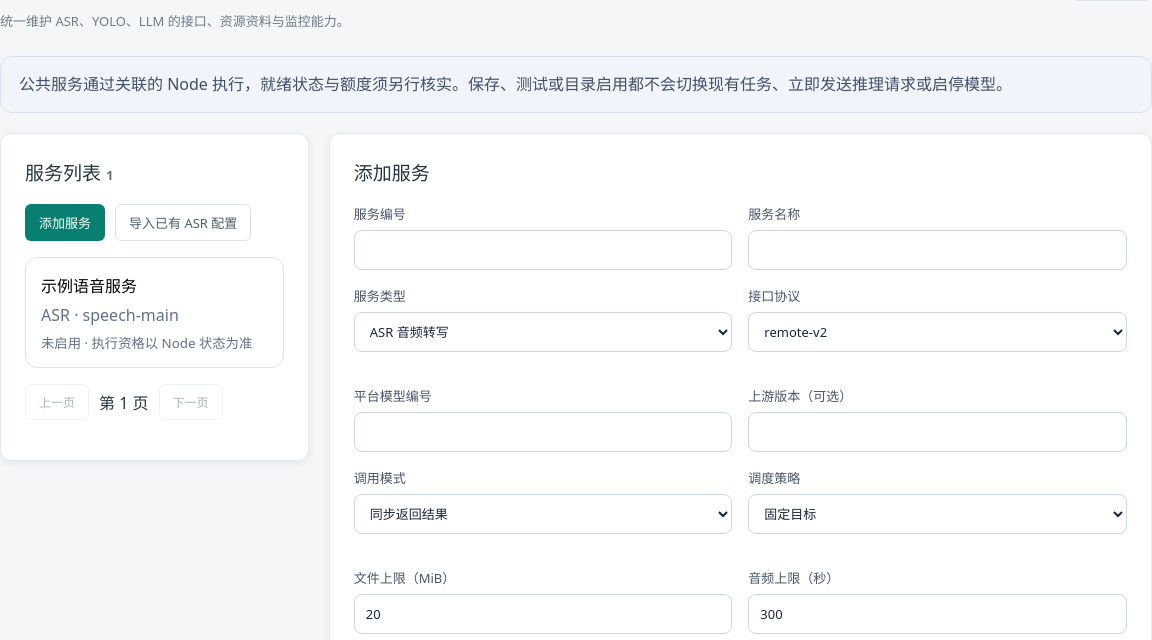
public service catalog module › keeps user edits when the server rejects a stale version
Step 1. Click the button "示例语音服务 ASR · speech-main 未启用 · 执行资格以 Node 状态为准" → [154, 313], box [25, 257, 284, 368]
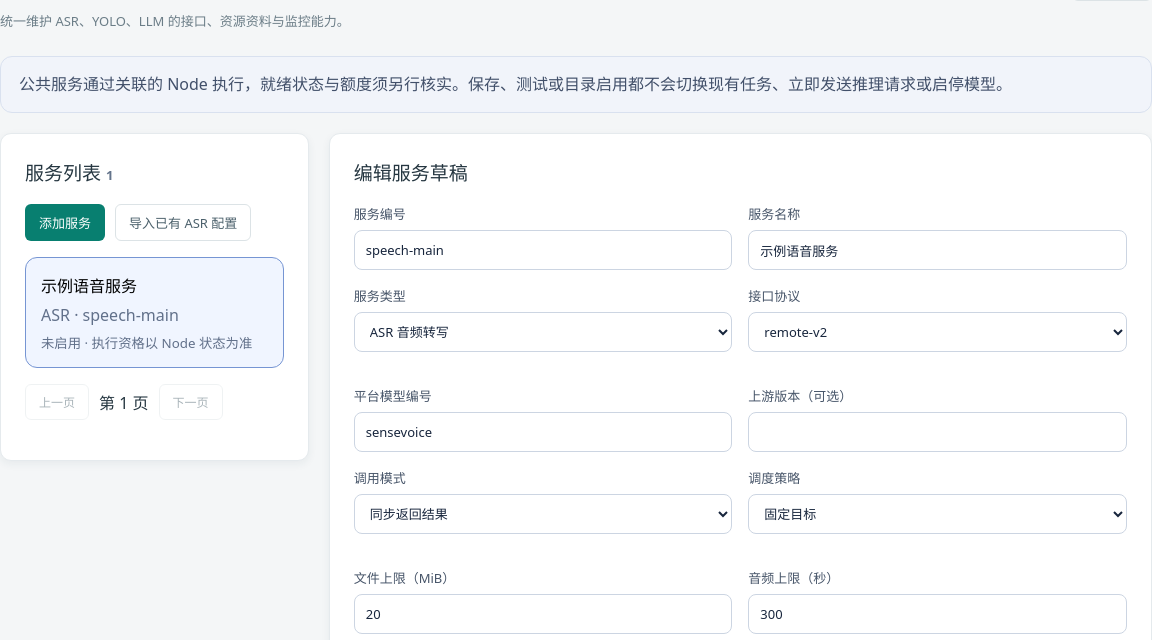
Step 2. Replace the text in the field labelled "服务名称" with "保留的草稿" → [938, 250], box [748, 230, 1127, 270]
(page scrolled)
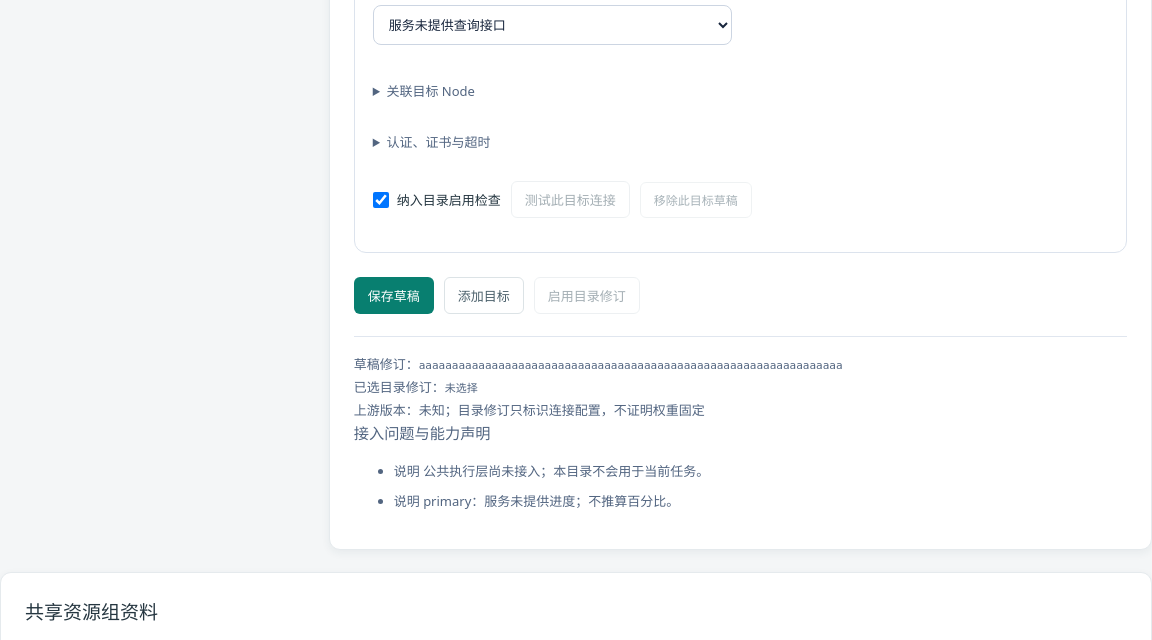
Step 3. Click the button "保存草稿" → [394, 296], box [354, 277, 434, 314]
(page scrolled)
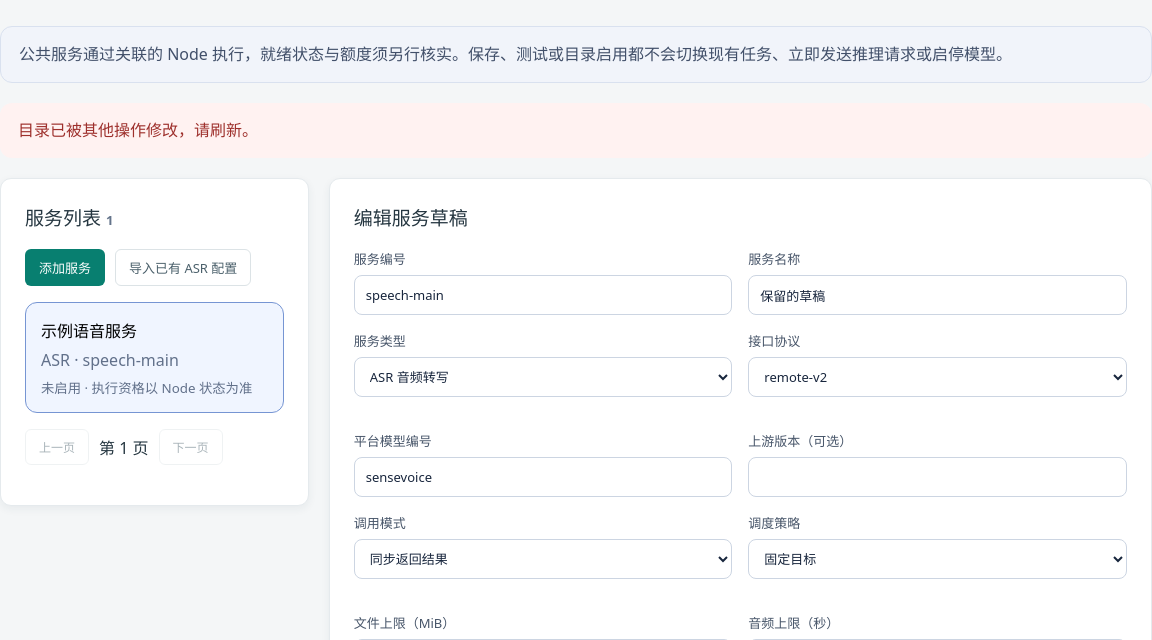
Result: the message "目录已被其他操作修改，请刷新。" is shown at [0, 103, 1151, 158]
